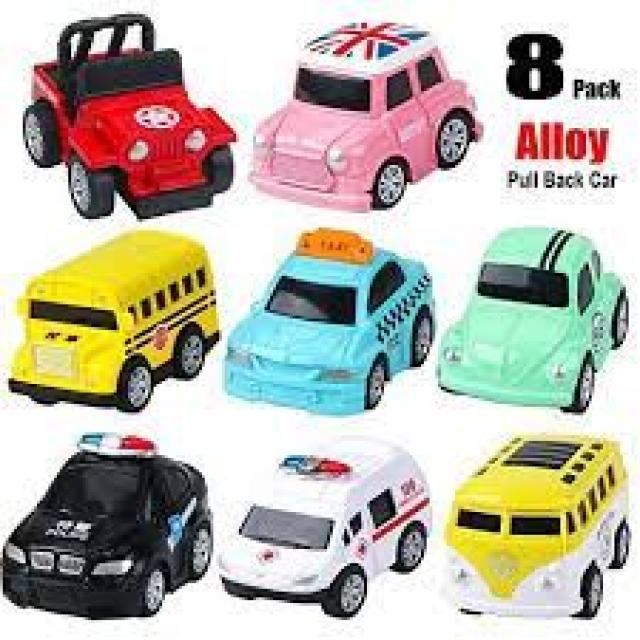Car: (247, 17, 483, 211), (20, 11, 236, 219), (0, 429, 213, 617), (217, 432, 432, 618), (222, 225, 435, 412), (6, 228, 219, 412), (435, 225, 629, 412), (441, 430, 631, 617)
